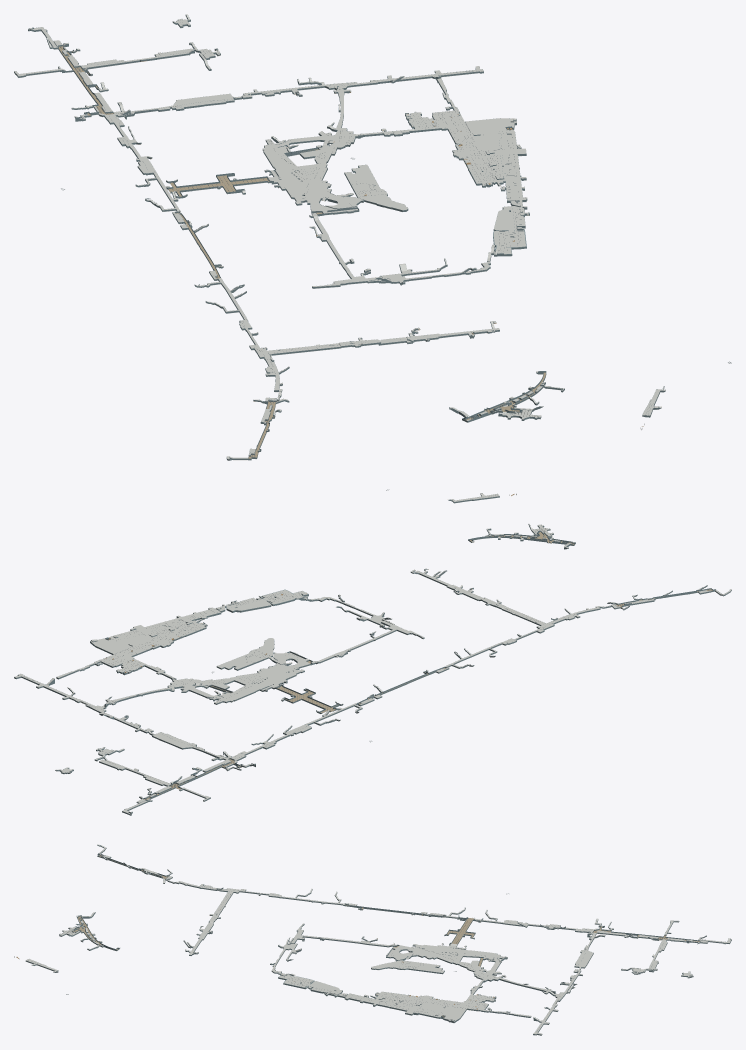
File: omy-underground.glb
3 views of the same model, one above another, from view 1: azimuth 30°, elevation 25°; view 2: azimuth 150°, elevation 25°; view 3: azimuth 270°, elevation 25° (orthographic). The views are drawn at different scales.
Parts seen in each view (by area): view 1: Building | WallSurface | wall, B1F_丸の内線大手町コンコース（仮） | CeilingSurface | ceiling, B1F_丸の内線東京駅コンコース（仮） | CeilingSurface | ceiling, Temp | CeilingSurface | ceiling, Building | OuterFloorSurface | floor, B1F_三田線日比谷駅コンコース（仮） | CeilingSurface | ceiling, B2F_丸の内線銀座駅ホーム（仮） | CeilingSurface | ceiling, B1F_東西線大手町連絡通路（仮） | CeilingSurface | ceiling, Building | OuterCeilingSurface | ceiling, B1F_千代田線大手町駅コンコース・半蔵門線連絡通路（仮）+300 | CeilingSurface | ceiling; view 2: Building | WallSurface | wall, B1F_丸の内線大手町コンコース（仮） | CeilingSurface | ceiling, B1F_丸の内線東京駅コンコース（仮） | CeilingSurface | ceiling, Temp | CeilingSurface | ceiling, B1F_三田線日比谷駅コンコース（仮） | CeilingSurface | ceiling, Building | OuterFloorSurface | floor, B2F_丸の内線銀座駅ホーム（仮） | CeilingSurface | ceiling, B1F_東西線大手町連絡通路（仮） | CeilingSurface | ceiling, B1F_千代田線大手町駅コンコース・半蔵門線連絡通路（仮）+300 | CeilingSurface | ceiling; view 3: Building | WallSurface | wall, B1F_丸の内線大手町コンコース（仮） | CeilingSurface | ceiling, B1F_丸の内線東京駅コンコース（仮） | CeilingSurface | ceiling, Temp | CeilingSurface | ceiling, B1F_三田線日比谷駅コンコース（仮） | CeilingSurface | ceiling, Building | OuterFloorSurface | floor, B2F_丸の内線銀座駅ホーム（仮） | CeilingSurface | ceiling, B1F_千代田線大手町駅コンコース・半蔵門線連絡通路（仮）+300 | CeilingSurface | ceiling, Building | OuterCeilingSurface | ceiling, B1F_東西線大手町連絡通路（仮） | CeilingSurface | ceiling.
Part boxes in pixels (bbox=[...]): Building | WallSurface | wall: bbox=[14, 15, 665, 460]; B1F_丸の内線大手町コンコース（仮） | CeilingSurface | ceiling: bbox=[173, 14, 525, 254]; B1F_丸の内線東京駅コンコース（仮） | CeilingSurface | ceiling: bbox=[242, 118, 529, 278]; Temp | CeilingSurface | ceiling: bbox=[298, 91, 497, 411]; Building | OuterFloorSurface | floor: bbox=[58, 46, 545, 458]; B1F_三田線日比谷駅コンコース（仮） | CeilingSurface | ceiling: bbox=[104, 114, 289, 391]; B2F_丸の内線銀座駅ホーム（仮） | CeilingSurface | ceiling: bbox=[204, 59, 564, 413]; B1F_東西線大手町連絡通路（仮） | CeilingSurface | ceiling: bbox=[172, 66, 483, 109]; Building | OuterCeilingSurface | ceiling: bbox=[20, 21, 663, 460]; B1F_千代田線大手町駅コンコース・半蔵門線連絡通路（仮）+300 | CeilingSurface | ceiling: bbox=[28, 27, 276, 455]; Building | WallSurface | wall: bbox=[15, 493, 731, 815]; B1F_丸の内線大手町コンコース（仮） | CeilingSurface | ceiling: bbox=[56, 590, 307, 772]; B1F_丸の内線東京駅コンコース（仮） | CeilingSurface | ceiling: bbox=[90, 596, 392, 703]; Temp | CeilingSurface | ceiling: bbox=[111, 547, 568, 701]; B1F_三田線日比谷駅コンコース（仮） | CeilingSurface | ceiling: bbox=[231, 606, 599, 760]; Building | OuterFloorSurface | floor: bbox=[144, 532, 712, 799]; B2F_丸の内線銀座駅ホーム（仮） | CeilingSurface | ceiling: bbox=[119, 528, 548, 751]; B1F_東西線大手町連絡通路（仮） | CeilingSurface | ceiling: bbox=[14, 674, 196, 746]; B1F_千代田線大手町駅コンコース・半蔵門線連絡通路（仮）+300 | CeilingSurface | ceiling: bbox=[122, 590, 710, 814]; Building | WallSurface | wall: bbox=[25, 845, 731, 1035]; B1F_丸の内線大手町コンコース（仮） | CeilingSurface | ceiling: bbox=[279, 966, 693, 1016]; B1F_丸の内線東京駅コンコース（仮） | CeilingSurface | ceiling: bbox=[288, 934, 507, 1021]; Temp | CeilingSurface | ceiling: bbox=[91, 912, 547, 990]; B1F_三田線日比谷駅コンコース（仮） | CeilingSurface | ceiling: bbox=[176, 881, 594, 931]; Building | OuterFloorSurface | floor: bbox=[73, 855, 699, 1010]; B2F_丸の内線銀座駅ホーム（仮） | CeilingSurface | ceiling: bbox=[72, 923, 630, 974]; B1F_千代田線大手町駅コンコース・半蔵門線連絡通路（仮）+300 | CeilingSurface | ceiling: bbox=[103, 854, 731, 943]; Building | OuterCeilingSurface | ceiling: bbox=[27, 857, 729, 1024]; B1F_東西線大手町連絡通路（仮） | CeilingSurface | ceiling: bbox=[533, 949, 585, 1034].
Bounding box in the file's own units: 1187 × 33.61 × 1932.
9 materials, 2 textured.
